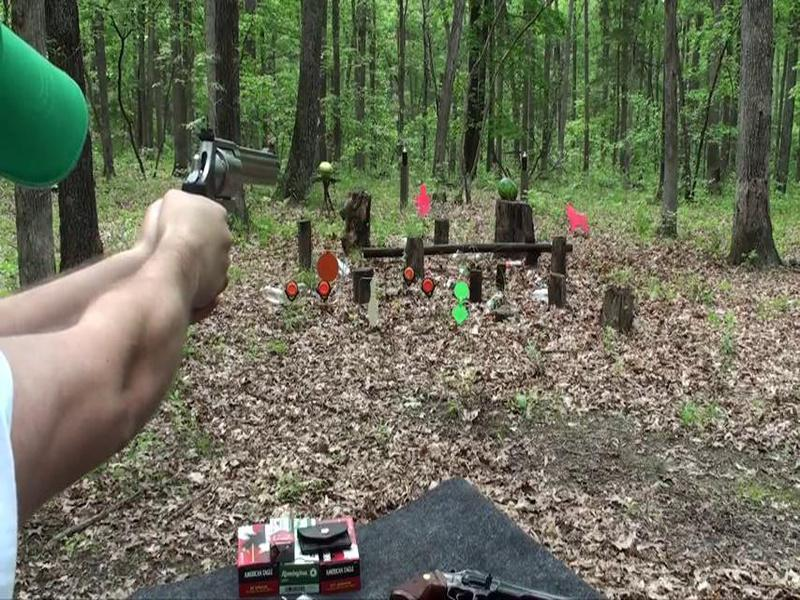Revolver: (165, 140, 304, 246)
